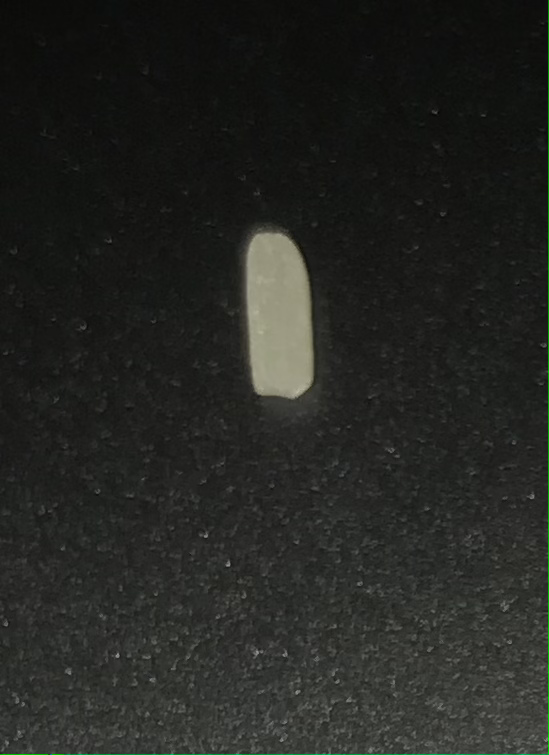Gao Tam Thom: (241, 218, 322, 415)
